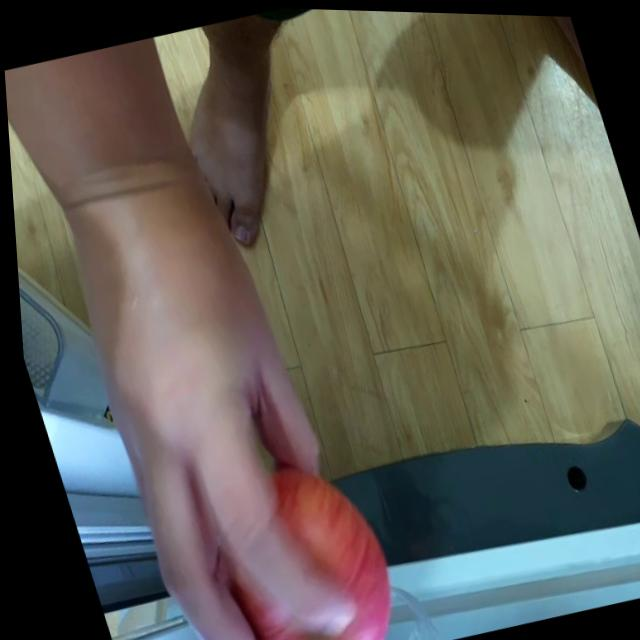apple: (203, 450, 398, 640)
